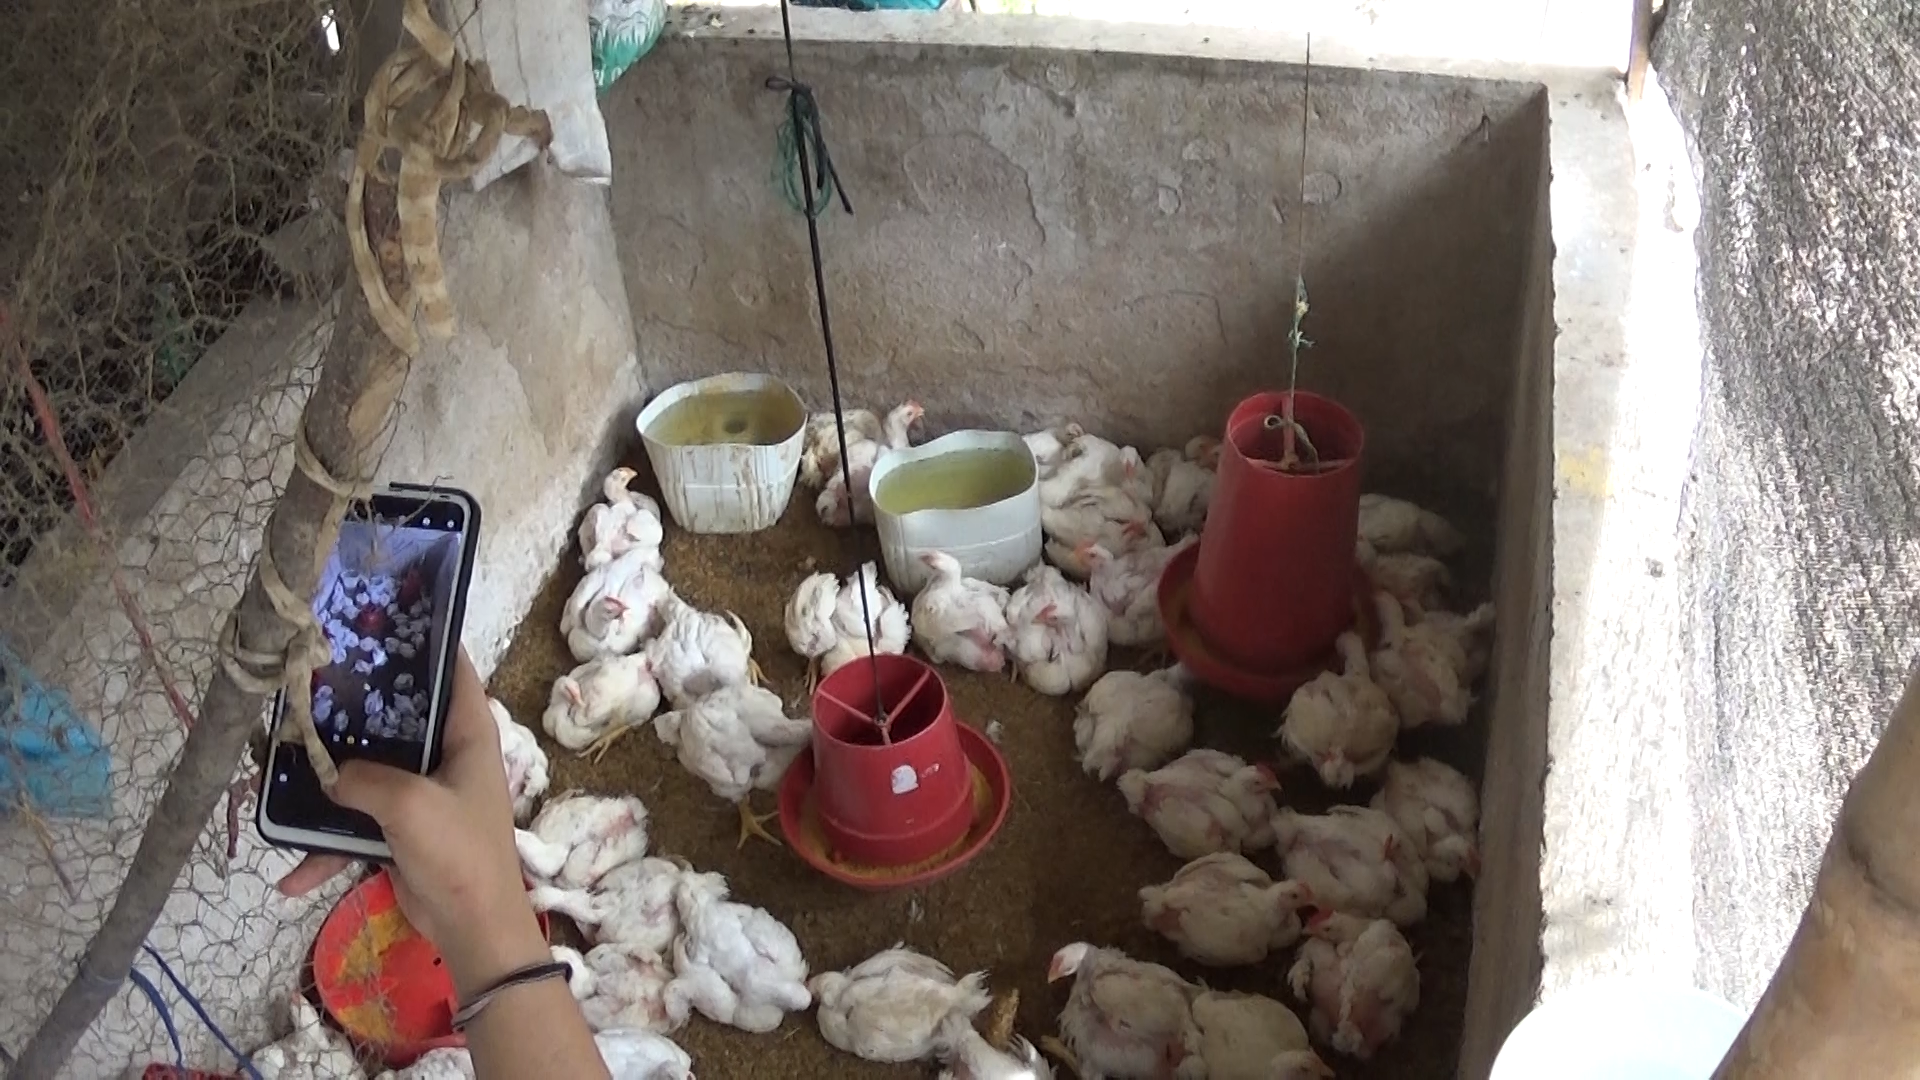Pollos: (638, 687, 831, 851), (658, 861, 819, 1027), (1275, 895, 1432, 1056), (1124, 844, 1309, 967), (1033, 935, 1189, 1077), (803, 935, 989, 1055), (1112, 738, 1283, 861), (1279, 624, 1398, 796), (527, 841, 696, 953), (1258, 802, 1425, 913), (1371, 582, 1486, 738), (1060, 651, 1191, 786), (989, 558, 1110, 699), (793, 558, 909, 699), (1174, 978, 1335, 1080), (549, 934, 698, 1040), (814, 398, 928, 530), (1385, 744, 1489, 886), (651, 597, 777, 713), (501, 786, 651, 882), (541, 647, 665, 764), (556, 549, 669, 667), (914, 542, 1010, 679), (245, 984, 375, 1080), (1069, 534, 1192, 628), (567, 456, 665, 572), (1035, 430, 1168, 508), (1345, 518, 1451, 603), (1044, 488, 1164, 558), (1149, 422, 1222, 516), (1021, 405, 1095, 462)
